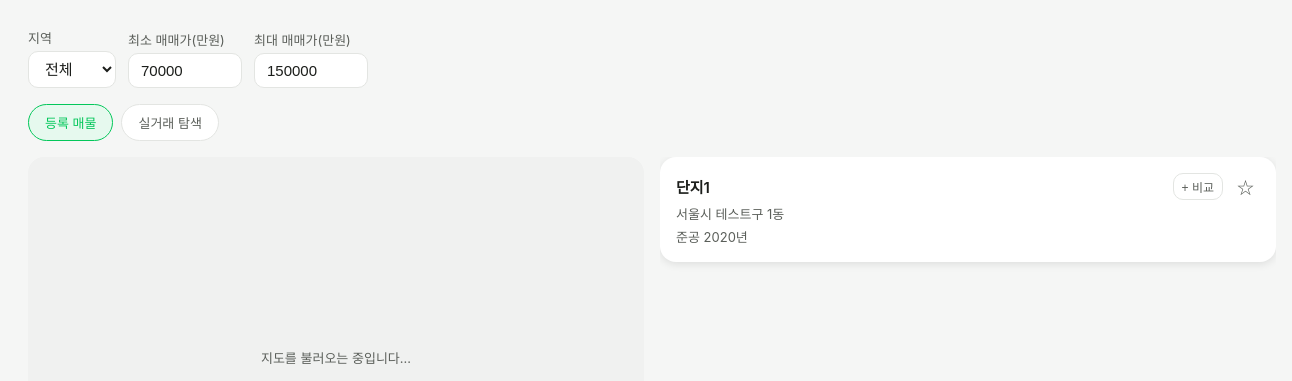
Test: ListingSearchScreen › 등록 매물 탭의 단지 위치 카드를 클릭하면 단지 상세 페이지로 이동한다
Click the element with class "complex-location-card". click: (968, 210)
box: [660, 157, 1276, 262]
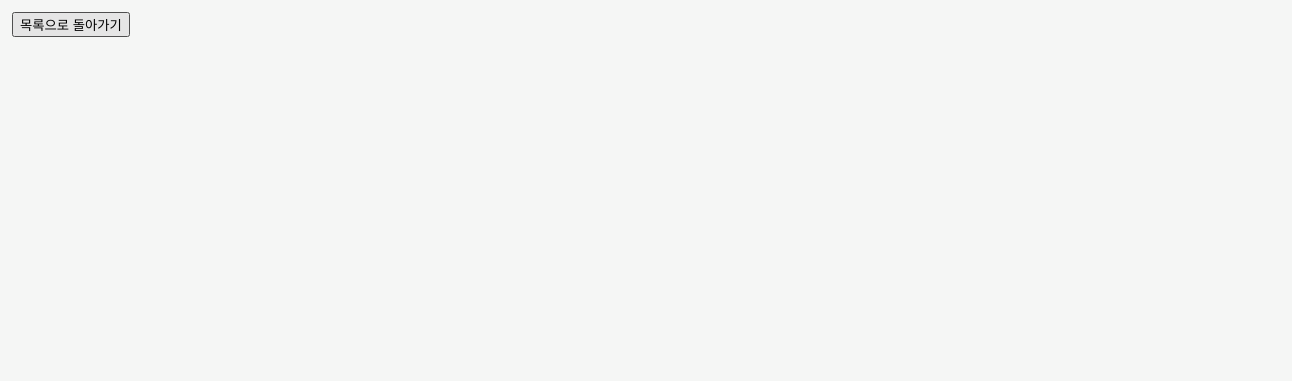
Check: the button with test id "complex-detail-probe" is shown, box [12, 12, 130, 37]
